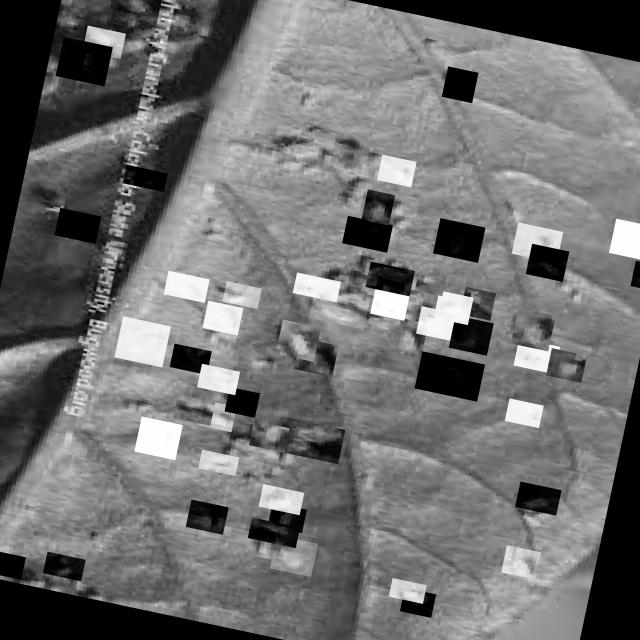aphid: (414, 350, 485, 400), (280, 416, 345, 463), (114, 315, 171, 366), (271, 124, 336, 168), (56, 35, 112, 85), (433, 216, 485, 262), (308, 289, 369, 328), (133, 415, 182, 459), (511, 221, 563, 262), (269, 534, 317, 576), (510, 307, 556, 350), (276, 318, 320, 361), (342, 215, 392, 252), (448, 314, 494, 354), (294, 336, 338, 376), (512, 337, 560, 373), (54, 206, 101, 242), (366, 260, 414, 295), (525, 242, 569, 280), (387, 316, 428, 356), (248, 516, 300, 547), (515, 480, 561, 514), (185, 498, 228, 534), (163, 270, 210, 302), (82, 24, 126, 58), (258, 482, 304, 514), (237, 340, 280, 374), (546, 346, 586, 382), (416, 304, 456, 340), (292, 271, 340, 301), (500, 544, 540, 579), (370, 285, 410, 320), (202, 300, 243, 334), (608, 217, 640, 260), (197, 362, 240, 394), (441, 65, 478, 102), (433, 290, 473, 324), (196, 398, 237, 431), (42, 550, 86, 580), (249, 419, 289, 452), (376, 153, 416, 186), (173, 393, 215, 424), (170, 342, 212, 373), (122, 163, 168, 190), (460, 286, 496, 320), (361, 188, 395, 224), (504, 397, 544, 427), (268, 501, 306, 532), (222, 280, 262, 308), (259, 460, 298, 488), (400, 586, 436, 616), (224, 386, 260, 416), (198, 448, 239, 474), (384, 190, 419, 220), (388, 576, 426, 602), (109, 0, 163, 18), (414, 268, 446, 294), (0, 547, 25, 578), (630, 259, 640, 289)
